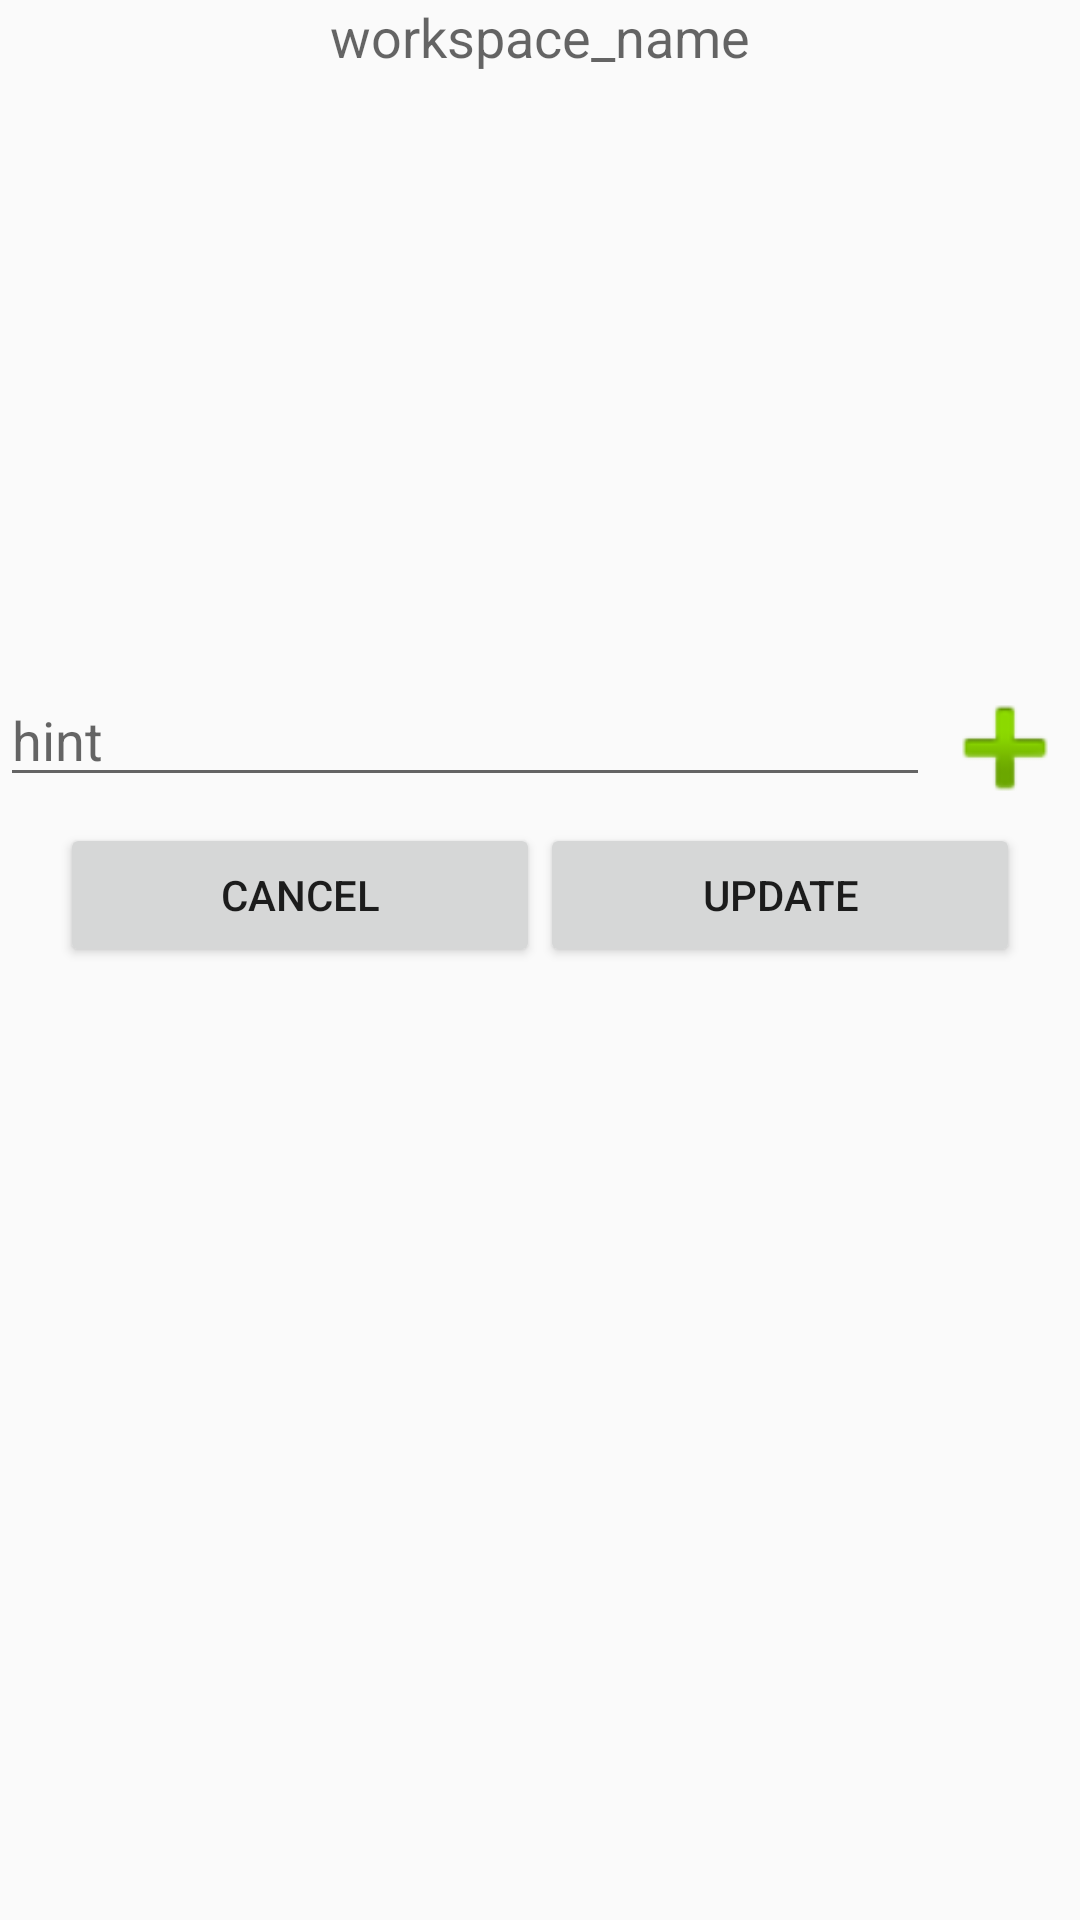

Where to tap for icons on this 1080px×1920px app screen, as point (x, y):
add: point (1005, 748)
